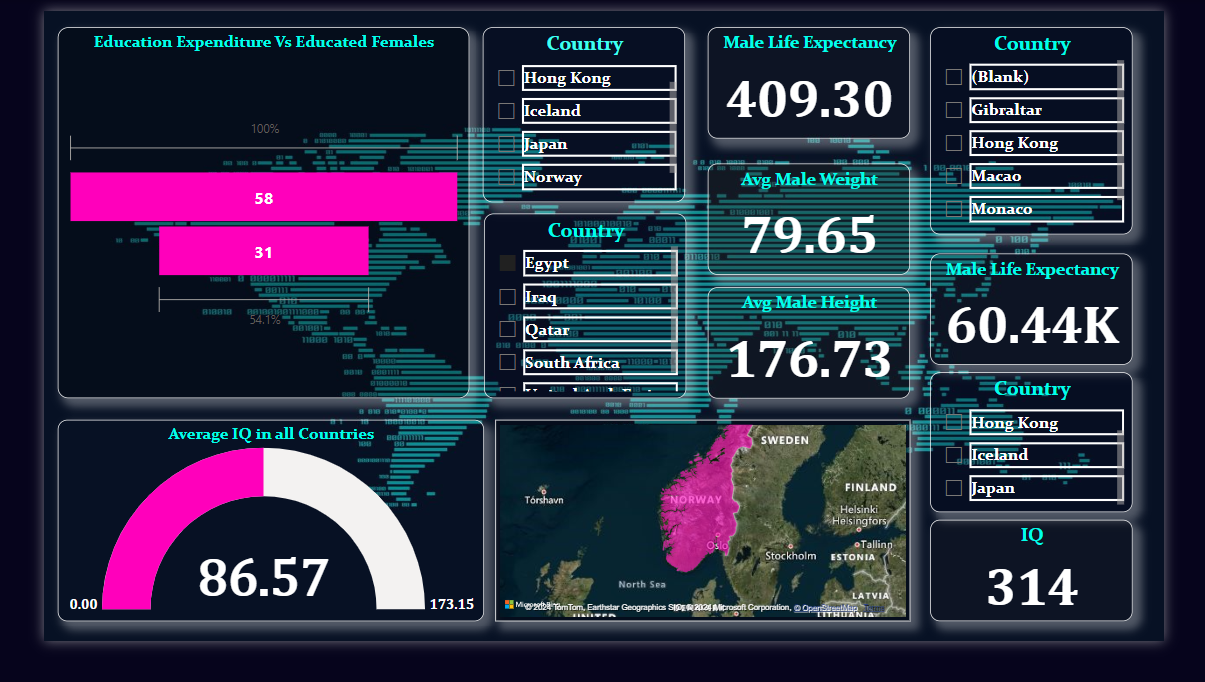

The dashboard page shown, as its layout file describes it:
{"tool":"powerbi","page":{"name":"Page 2","canvas":[1280,720],"ordinal":1},"visuals":[{"type":"slicer","title":"Country","fields":{"Values":["soln 1.COUNTRY"]},"box":[501.4,18.6,231.4,200],"z":0},{"type":"card","title":"Male Life Expectancy","fields":{"Values":["Sum(soln 1.MALE_LIFE_EXPECTANCY)"]},"box":[758.6,18.6,231.4,127.1],"z":1000},{"type":"gauge","title":"Average IQ in all Countries","fields":{"Y":["Sum(soln 2.AVERAGE_IQ)"]},"box":[15.7,467.1,487.1,230],"z":2000},{"type":"card","title":"Male Life Expectancy","fields":{"Values":["Sum(soln 3.POP_PER_KM_SQ)"]},"box":[1012.9,277.1,231.4,127.1],"z":4000},{"type":"slicer","title":"Country","fields":{"Values":["soln 3.COUNTRY"]},"box":[1012.9,18.6,231.4,237.1],"z":5000},{"type":"slicer","title":"Country","fields":{"Values":["soln 4.COUNTRY"]},"box":[1012.9,412.9,231.4,160],"z":6000},{"type":"card","title":"IQ","fields":{"Values":["Sum(soln 4.IQ)"]},"box":[1012.9,581.4,231.4,115.7],"z":7000},{"type":"card","title":"Avg Male Weight","fields":{"Values":["Sum(soln 5.AVG_MALE_WEIGHT)"]},"box":[758.6,174.3,231.4,127.1],"z":8000},{"type":"card","title":"Avg Male Height","fields":{"Values":["Sum(soln 5.AVG_MALE_HEIGHT)"]},"box":[758.6,315.7,231.4,127.1],"z":9000},{"type":"slicer","title":"Country","fields":{"Values":["soln 6.COUNTRY"]},"box":[502.9,231.4,231.4,211.4],"z":10000},{"type":"funnel","title":"Education Expenditure Vs Educated Females","fields":{"Y":["Sum(soln 6.EDUCATION_EXPENDITURE_PER_INHABITANT)","Sum(soln 6.FEMALE_BMI)"]},"box":[15.7,18.6,470,424.3],"z":11000},{"type":"filledMap","fields":{"Category":["soln 1.COUNTRY","soln 3.COUNTRY","soln 4.COUNTRY"]},"box":[515.7,467.1,474.3,230],"z":12000}]}

Visuals, with their boxes in screenshot pixels (x1, y1, x2, y2), scaled from the page's 1280x720 canvas onto the 1205x682 screenshot:
"Country" slicer: (x1=472, y1=18, x2=690, y2=207)
"Male Life Expectancy" card: (x1=714, y1=18, x2=932, y2=138)
"Average IQ in all Countries" gauge: (x1=15, y1=442, x2=473, y2=660)
"Male Life Expectancy" card: (x1=954, y1=262, x2=1171, y2=383)
"Country" slicer: (x1=954, y1=18, x2=1171, y2=242)
"Country" slicer: (x1=954, y1=391, x2=1171, y2=543)
"IQ" card: (x1=954, y1=551, x2=1171, y2=660)
"Avg Male Weight" card: (x1=714, y1=165, x2=932, y2=285)
"Avg Male Height" card: (x1=714, y1=299, x2=932, y2=419)
"Country" slicer: (x1=473, y1=219, x2=691, y2=419)
"Education Expenditure Vs Educated Females" funnel: (x1=15, y1=18, x2=457, y2=420)
filledMap - soln 1.COUNTRY x soln 3.COUNTRY: (x1=485, y1=442, x2=932, y2=660)
